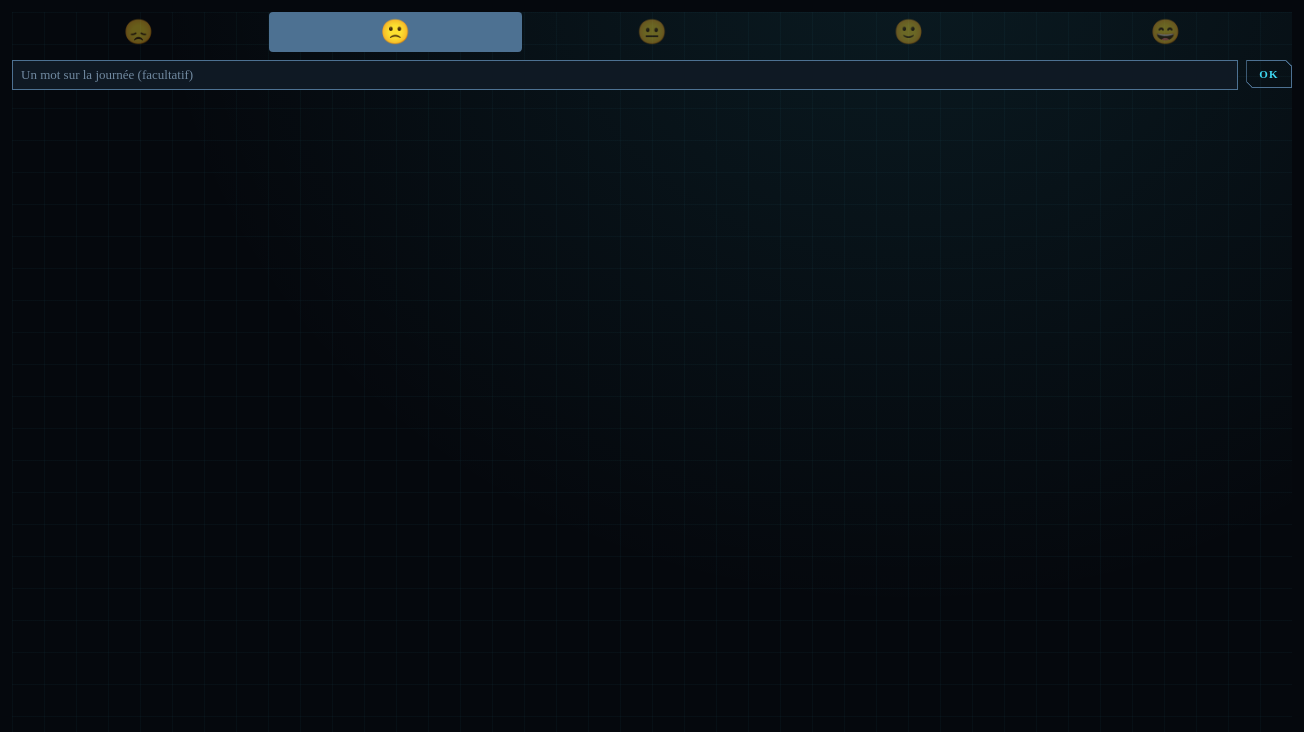
it: MoodPicker › setMood renvoie { error }: humeur précédente restaurée, erreur en role="alert"
Click the radio button named "Très bien". click: click(1166, 32)
box: [1039,12,1292,52]
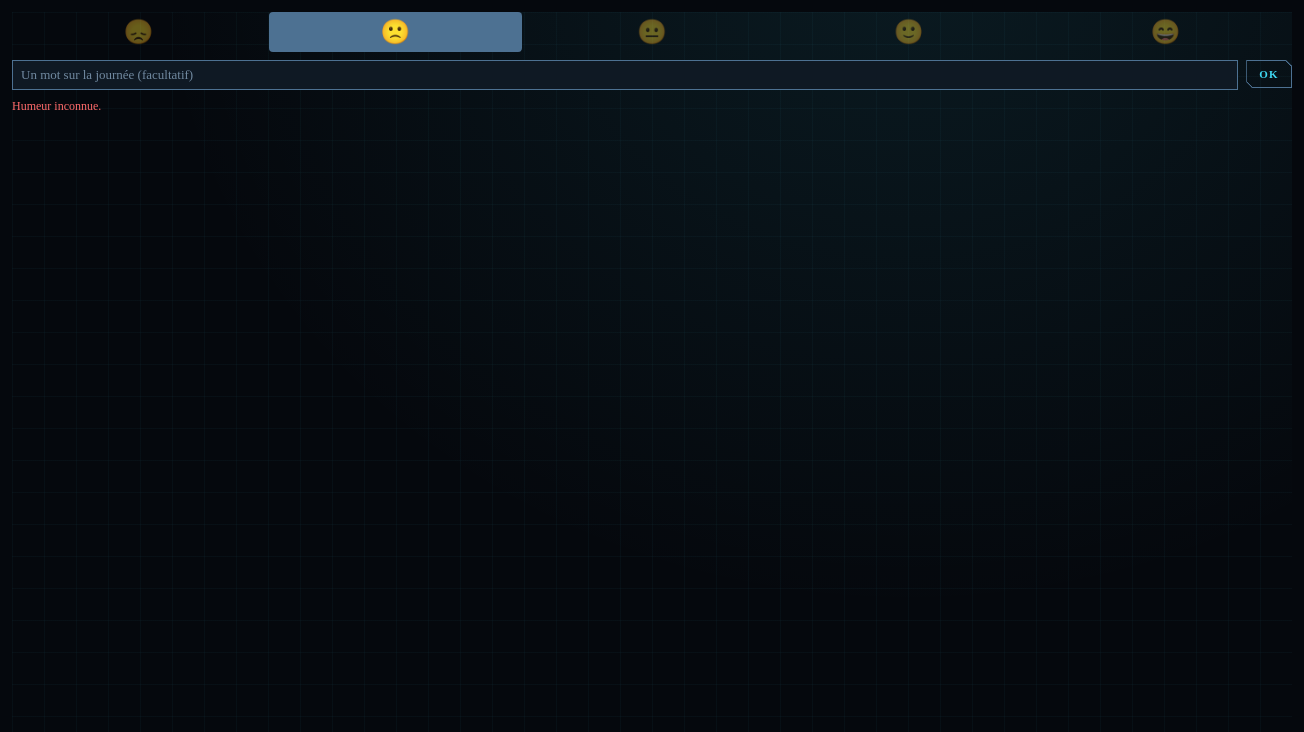
Result: the message reads "Humeur inconnue." at [12,99,101,113]
